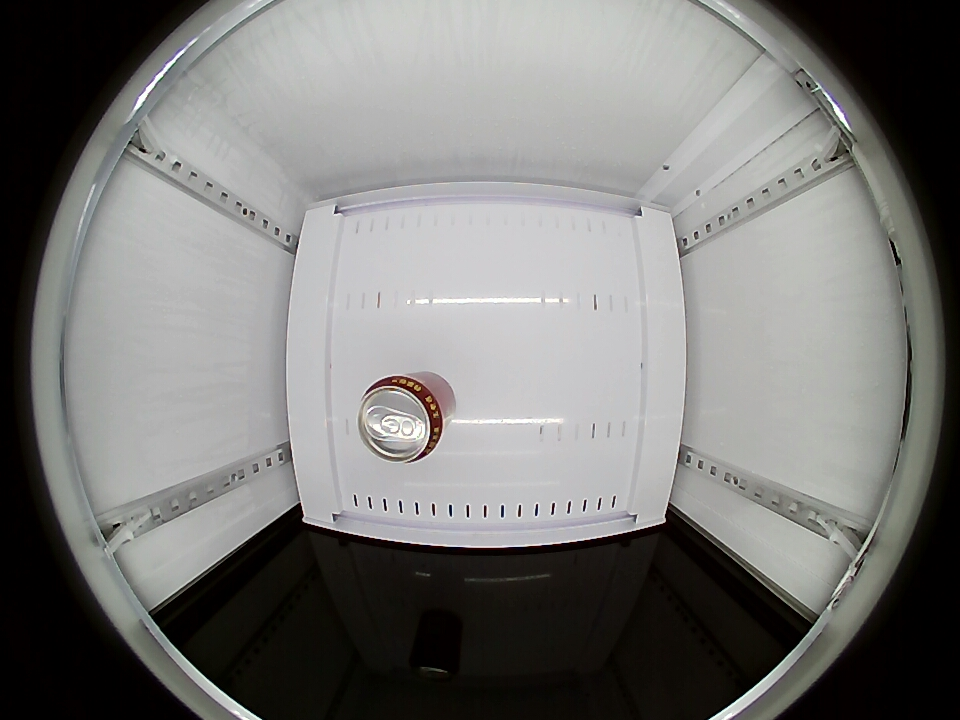wanglaoji-c: (357, 375, 448, 464)
